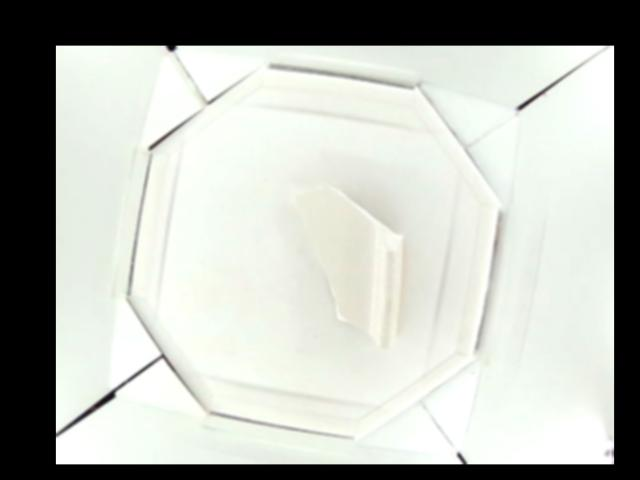China: (296, 185, 404, 349)
